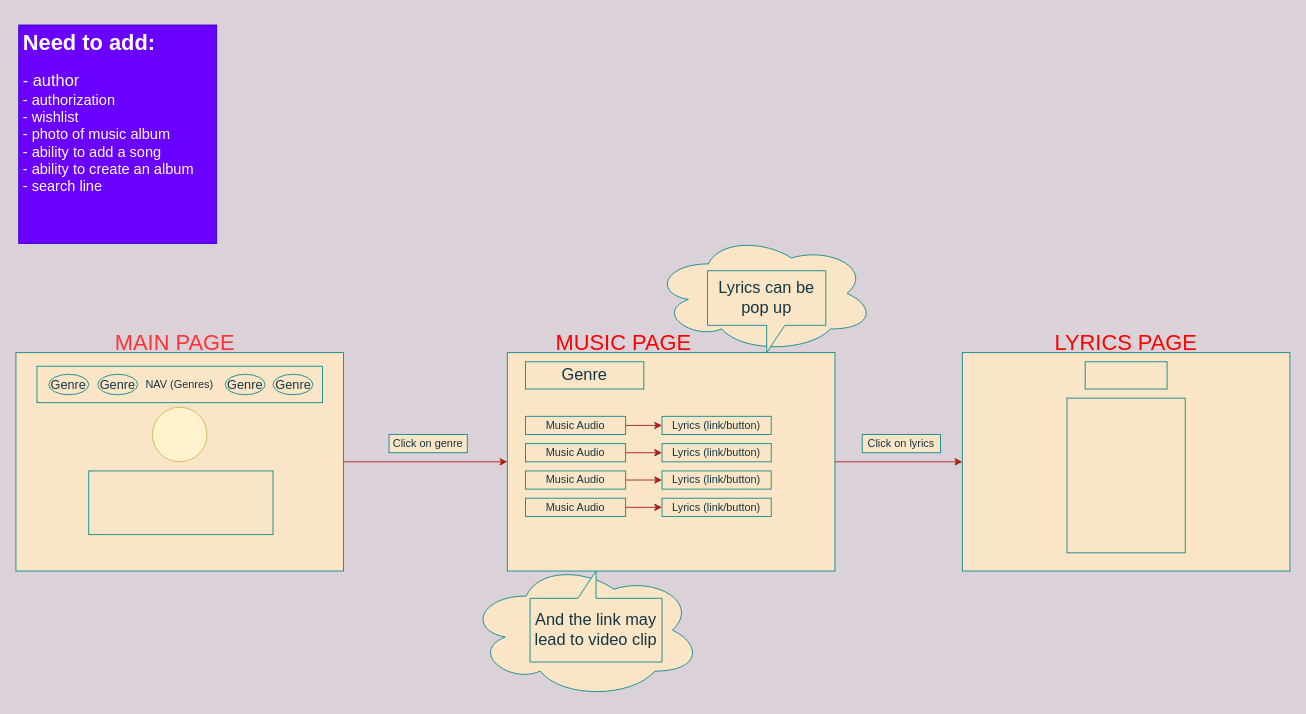
This 1306x714 diagram has some shape labels left out. The shapes that lost their labels are listed below. From the top down, each one's centre as x and y in pixels, then its label:
At point (1125, 375): "Song".
At point (179, 434): "logo".
At point (1125, 475): "Lyrics".
At point (180, 502): "Music App (header)".
